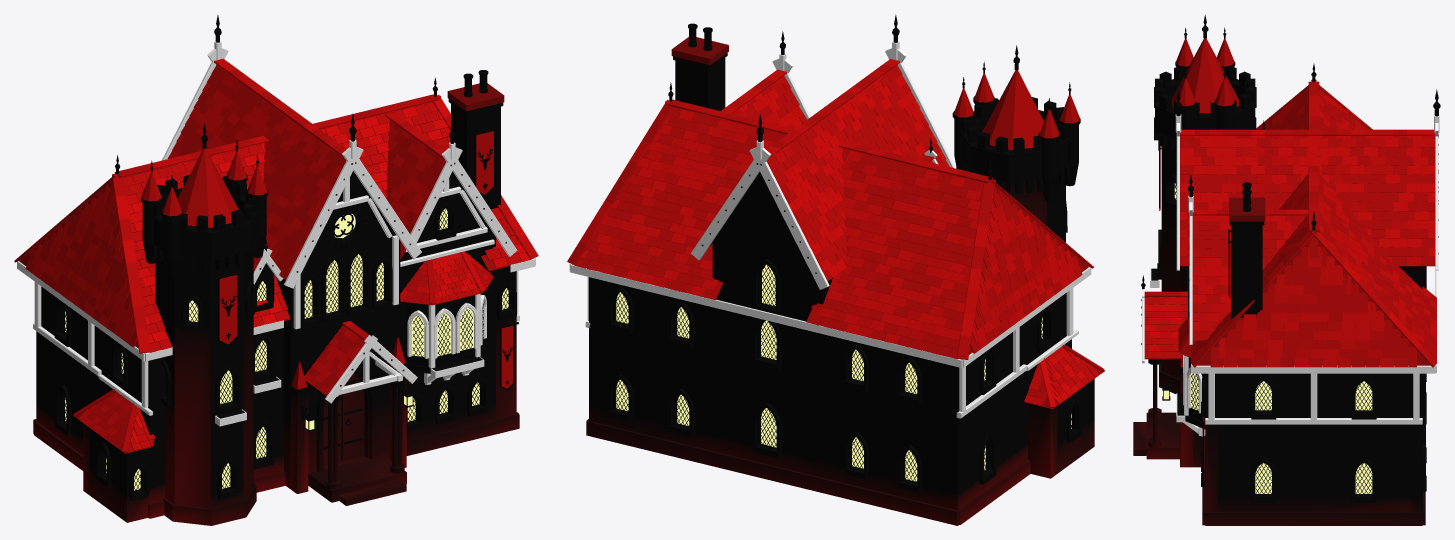
The model's file is SilverbrookNorthridgeHouse6.fbx.
3 renders of one model, left to right at view 1: azimuth 30°, elevation 25°; view 2: azimuth 150°, elevation 25°; view 3: azimuth 270°, elevation 25°, orthographic. The views are drawn at different scales.
Visible parts, largest first — view 1: SM_SBNorthridgeHouse6_Masonry, SM_SBNorthridgeHouse6_Roof, SM_SBNorthridgeHouse6_Dressed, SM_SBNorthridgeHouse6_Timber, SM_SBNorthridgeHouse6_Details; view 2: SM_SBNorthridgeHouse6_Roof, SM_SBNorthridgeHouse6_Masonry, SM_SBNorthridgeHouse6_Dressed, SM_SBNorthridgeHouse6_Timber, SM_SBNorthridgeHouse6_Details; view 3: SM_SBNorthridgeHouse6_Roof, SM_SBNorthridgeHouse6_Masonry, SM_SBNorthridgeHouse6_Dressed, SM_SBNorthridgeHouse6_Timber, SM_SBNorthridgeHouse6_Details.
Part boxes in pixels (x1=…): SM_SBNorthridgeHouse6_Masonry: x1=36, y1=104, x2=516, y2=522; SM_SBNorthridgeHouse6_Roof: x1=14, y1=58, x2=538, y2=453; SM_SBNorthridgeHouse6_Dressed: x1=33, y1=83, x2=519, y2=525; SM_SBNorthridgeHouse6_Timber: x1=17, y1=41, x2=535, y2=426; SM_SBNorthridgeHouse6_Details: x1=64, y1=15, x2=518, y2=490; SM_SBNorthridgeHouse6_Roof: x1=567, y1=59, x2=1104, y2=409; SM_SBNorthridgeHouse6_Masonry: x1=589, y1=58, x2=1094, y2=510; SM_SBNorthridgeHouse6_Dressed: x1=586, y1=37, x2=1082, y2=525; SM_SBNorthridgeHouse6_Timber: x1=569, y1=41, x2=1091, y2=418; SM_SBNorthridgeHouse6_Details: x1=616, y1=14, x2=1071, y2=481; SM_SBNorthridgeHouse6_Roof: x1=1144, y1=38, x2=1437, y2=367; SM_SBNorthridgeHouse6_Masonry: x1=1155, y1=67, x2=1422, y2=511; SM_SBNorthridgeHouse6_Dressed: x1=1133, y1=61, x2=1426, y2=525; SM_SBNorthridgeHouse6_Timber: x1=1142, y1=114, x2=1439, y2=436; SM_SBNorthridgeHouse6_Details: x1=1141, y1=14, x2=1440, y2=493.
Size of the model in its own units: 1093 by 963 by 735.
